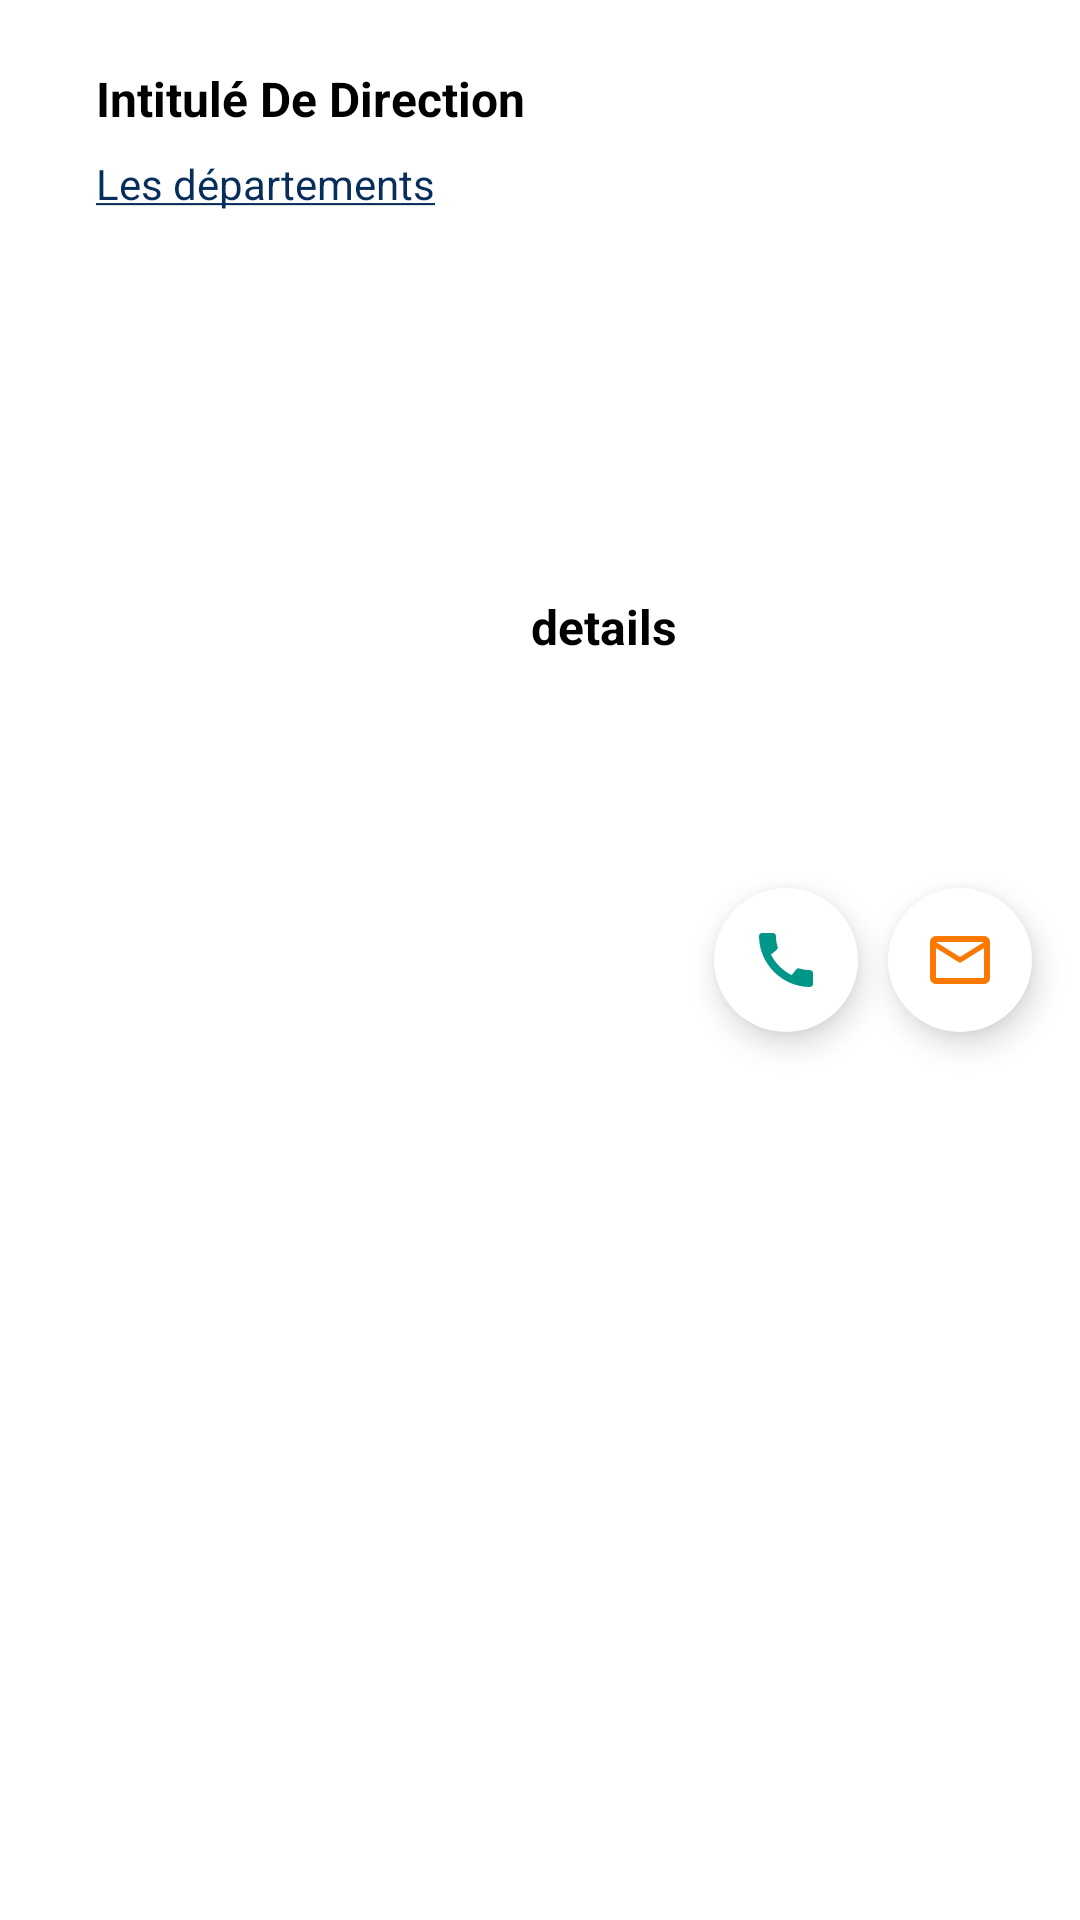

Screen size 1080 x 1920. Icon name, then its box in pixels as box=[x1, y1, x2, y2]:
call: box=[733, 933, 857, 1032]
mail: box=[915, 936, 1032, 1032]
